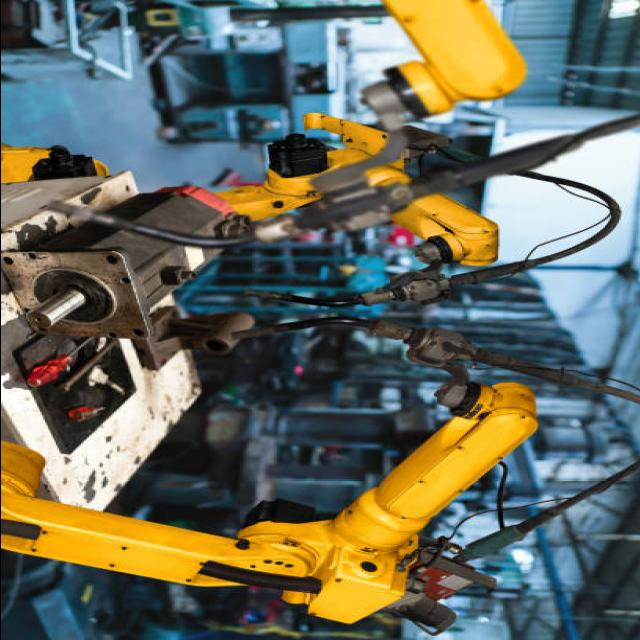Robotic-arm: (0, 378, 552, 625), (175, 128, 506, 274), (349, 0, 537, 123)
